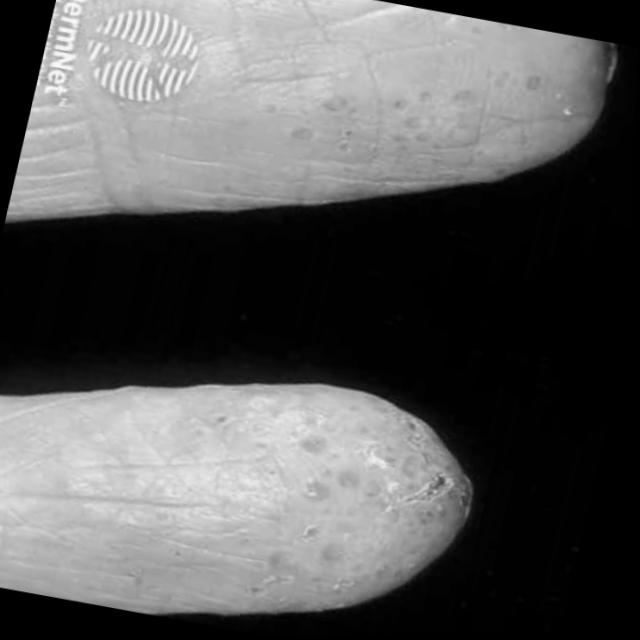Eczema: (235, 0, 620, 241), (134, 365, 473, 638)
